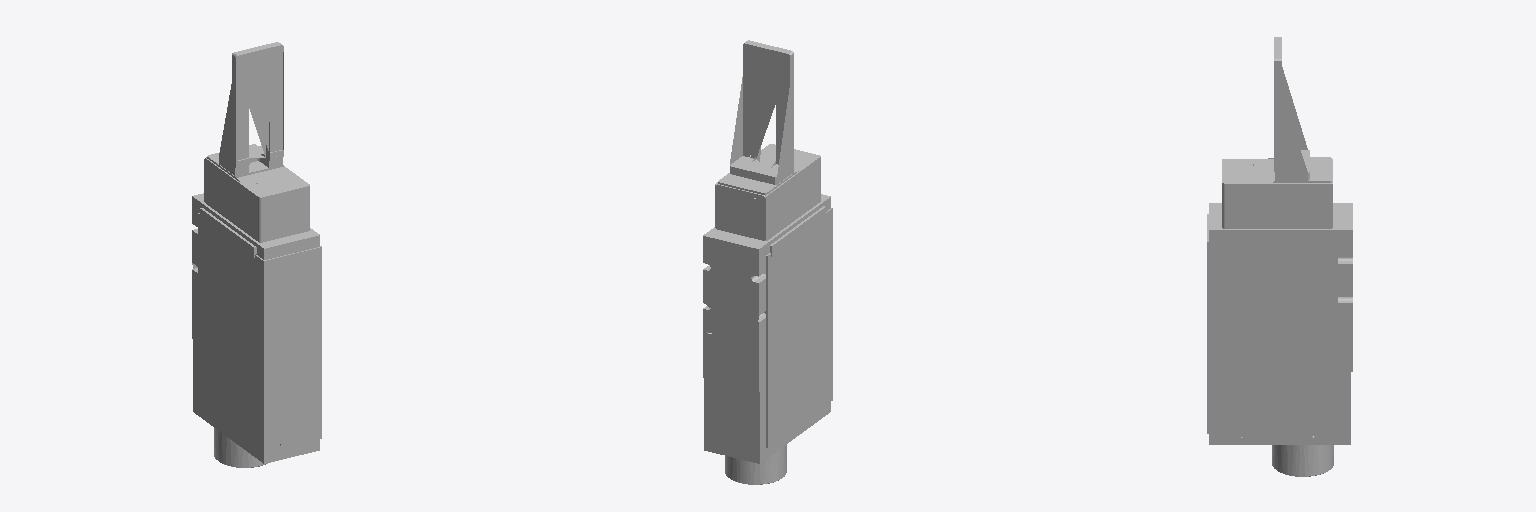
File: bv1_test_rendering_holoLens.obj
3 views of the same model, side by side, from view 1: azimuth 30°, elevation 25°; view 2: azimuth 150°, elevation 25°; view 3: azimuth 270°, elevation 25° (orthographic).
Visible parts, largest first — view 1: 03_BVe1_Optics_Assy-Hybrid_BVe1_Optics_Assy-Hybrid; view 2: 03_BVe1_Optics_Assy-Hybrid_BVe1_Optics_Assy-Hybrid; view 3: 03_BVe1_Optics_Assy-Hybrid_BVe1_Optics_Assy-Hybrid.
Part boxes in pixels (bbox=[...]): 03_BVe1_Optics_Assy-Hybrid_BVe1_Optics_Assy-Hybrid: bbox=[192, 42, 321, 467]; 03_BVe1_Optics_Assy-Hybrid_BVe1_Optics_Assy-Hybrid: bbox=[703, 40, 832, 484]; 03_BVe1_Optics_Assy-Hybrid_BVe1_Optics_Assy-Hybrid: bbox=[1207, 37, 1352, 476].
Size of the model in its own units: 0.4683 by 3.1 by 0.9854.